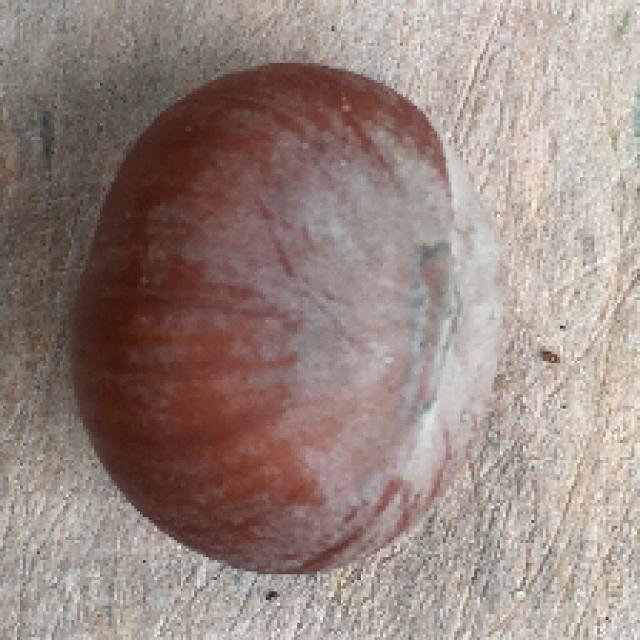qualityHazelnut: (68, 51, 502, 578)
